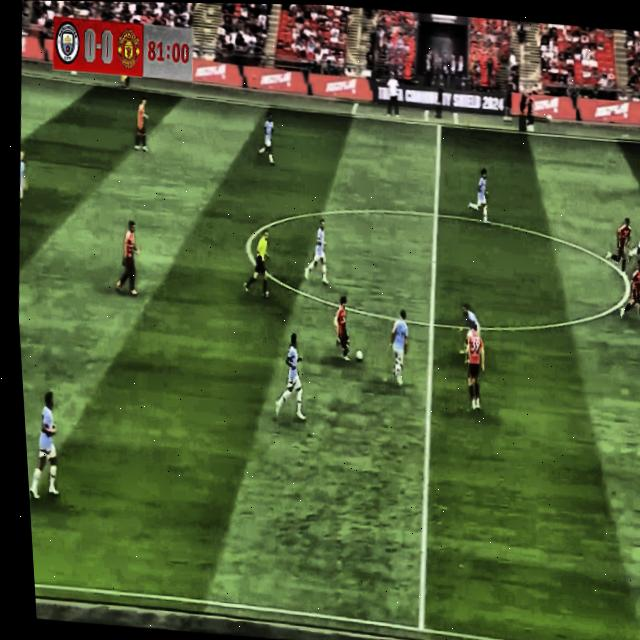ball: (352, 347, 369, 367)
players: (261, 328, 317, 426), (23, 385, 68, 504), (377, 300, 420, 397), (295, 201, 338, 294), (454, 318, 491, 415), (108, 216, 148, 300), (598, 209, 636, 278), (451, 299, 487, 369), (249, 104, 286, 171), (327, 291, 359, 366), (464, 166, 498, 228), (128, 91, 158, 158), (614, 255, 640, 327), (16, 151, 35, 215), (629, 205, 640, 279)
refree: (236, 214, 280, 312)
